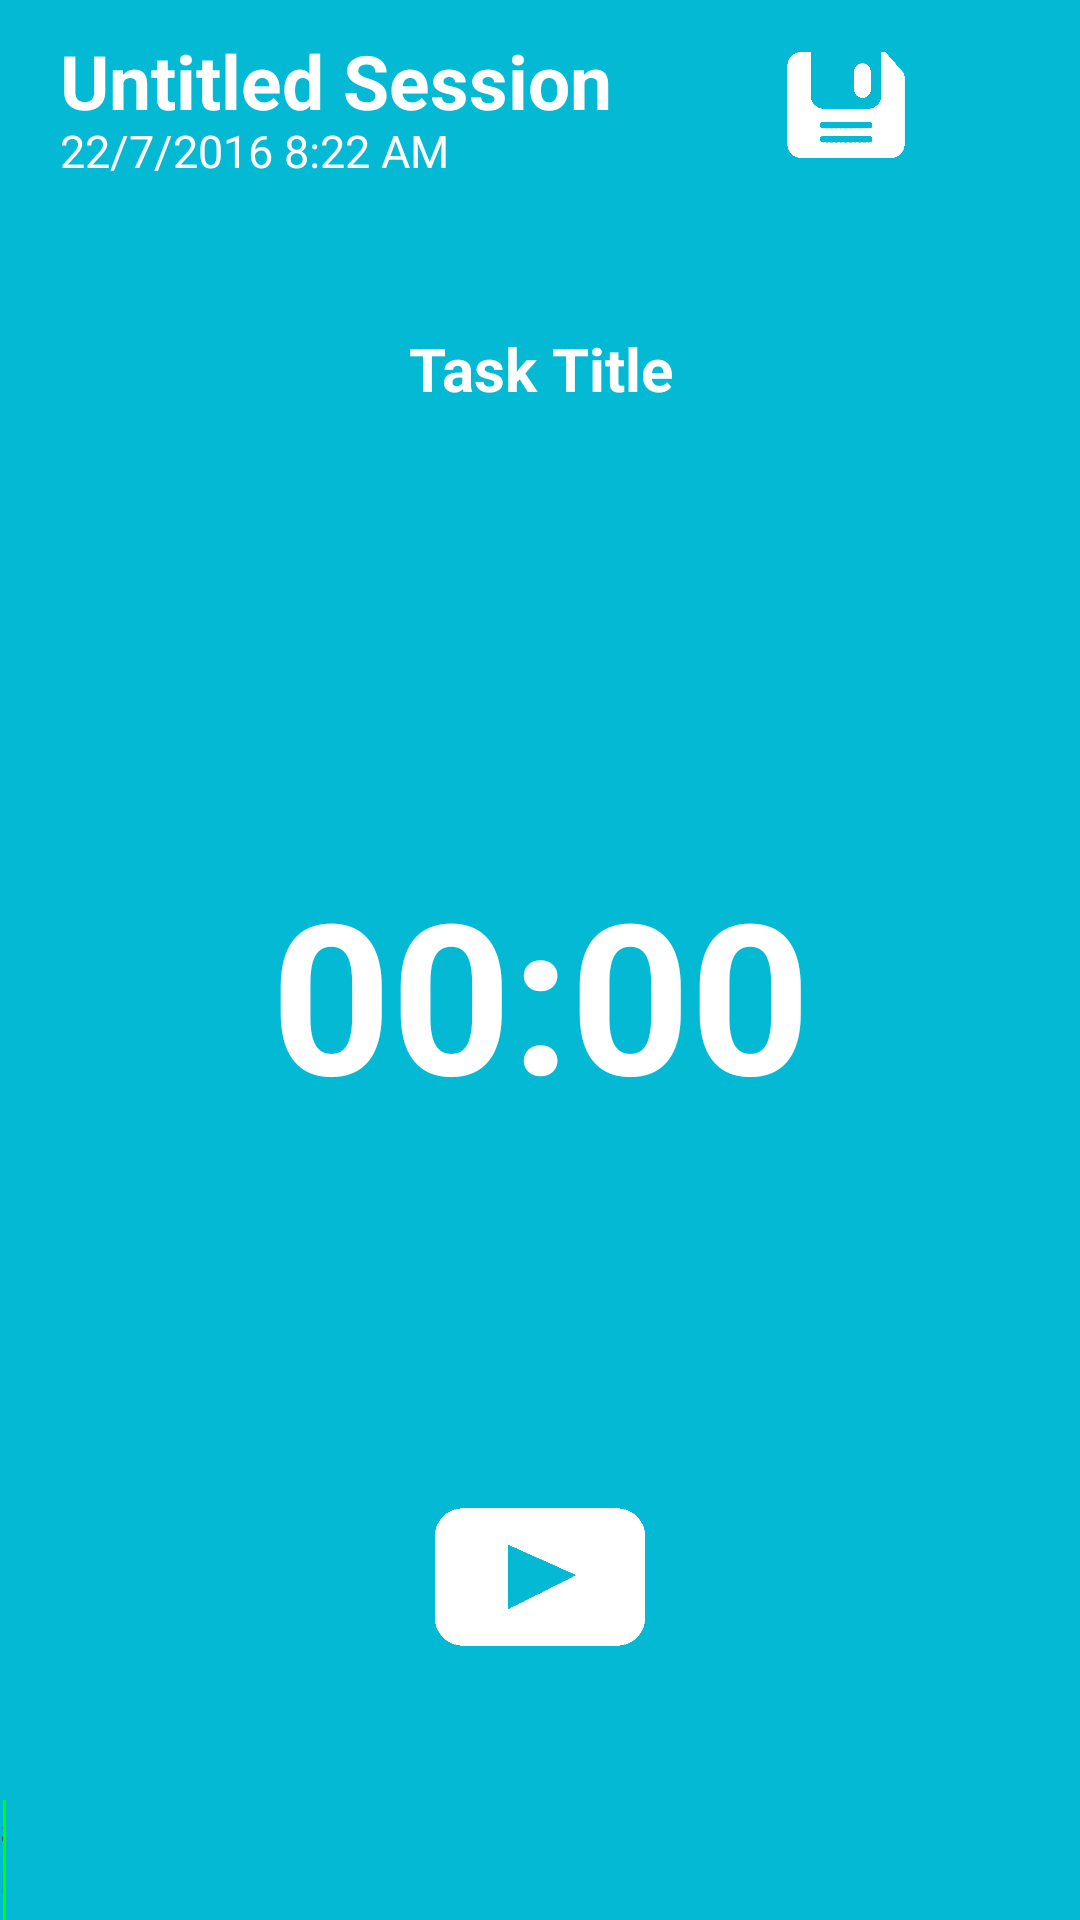

Locate icon controls on the screen. Image size 1080x1920, boxes as (x1, y1, x2, y2).
savebtnbg: (787, 52, 905, 158)
selectorplaystop: (435, 1508, 645, 1646)
